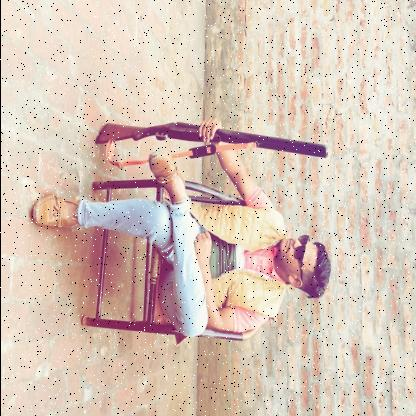rifle: (92, 119, 328, 160)
